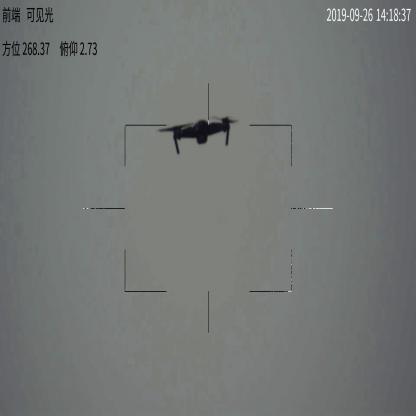uav: (155, 111, 239, 155)
